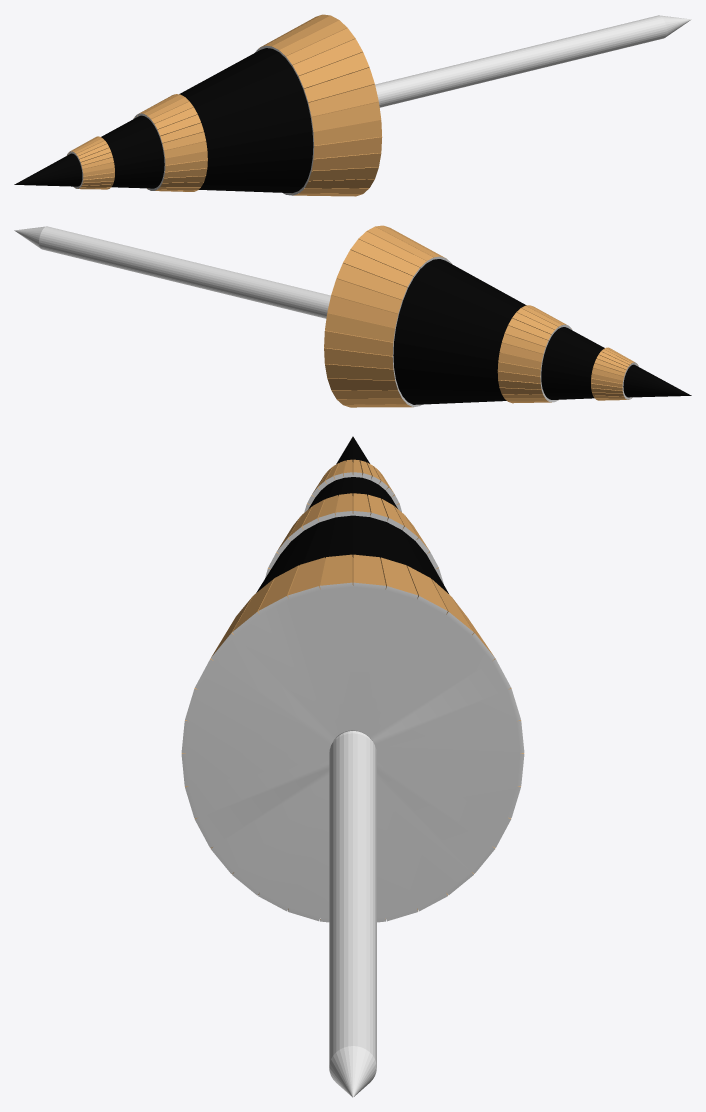
The model's file is Weapon.fbx.
3 views of the same model, one above another, from view 1: azimuth 30°, elevation 25°; view 2: azimuth 150°, elevation 25°; view 3: azimuth 270°, elevation 25° (orthographic). The views are drawn at different scales.
Parts seen in each view (by area): view 1: Cylinder.002, Cylinder, Cylinder.001; view 2: Cylinder.002, Cylinder, Cylinder.001; view 3: Cylinder.001, Cylinder, Cylinder.002.
Boxes of the visible parts, box(x1,y1,x2,y2) form: Cylinder.002: box(14, 48, 313, 193); Cylinder: box(68, 14, 382, 196); Cylinder.001: box(66, 15, 691, 195); Cylinder.002: box(393, 259, 691, 404); Cylinder: box(324, 225, 636, 407); Cylinder.001: box(14, 226, 638, 407); Cylinder.001: box(181, 472, 524, 1097); Cylinder: box(181, 459, 524, 919); Cylinder.002: box(256, 436, 448, 593).
Bounding box in the file's own units: 3280 × 791 × 719.
